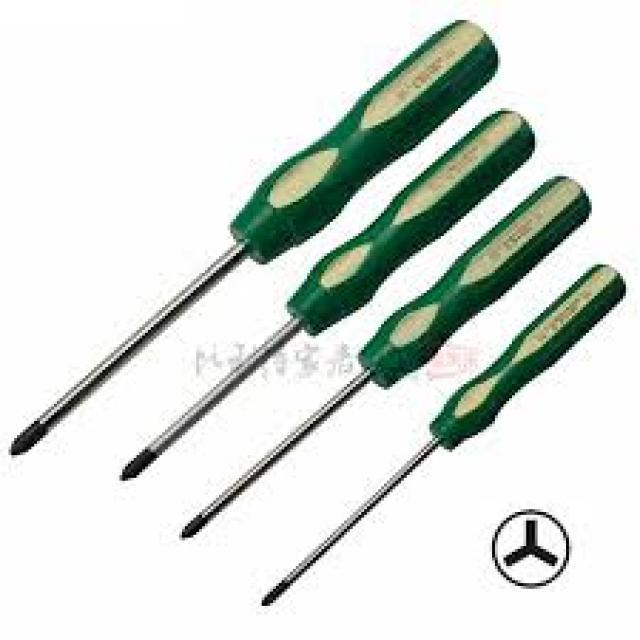screwdriver: (12, 11, 500, 455), (110, 101, 540, 488), (170, 173, 604, 549), (246, 257, 630, 616)
